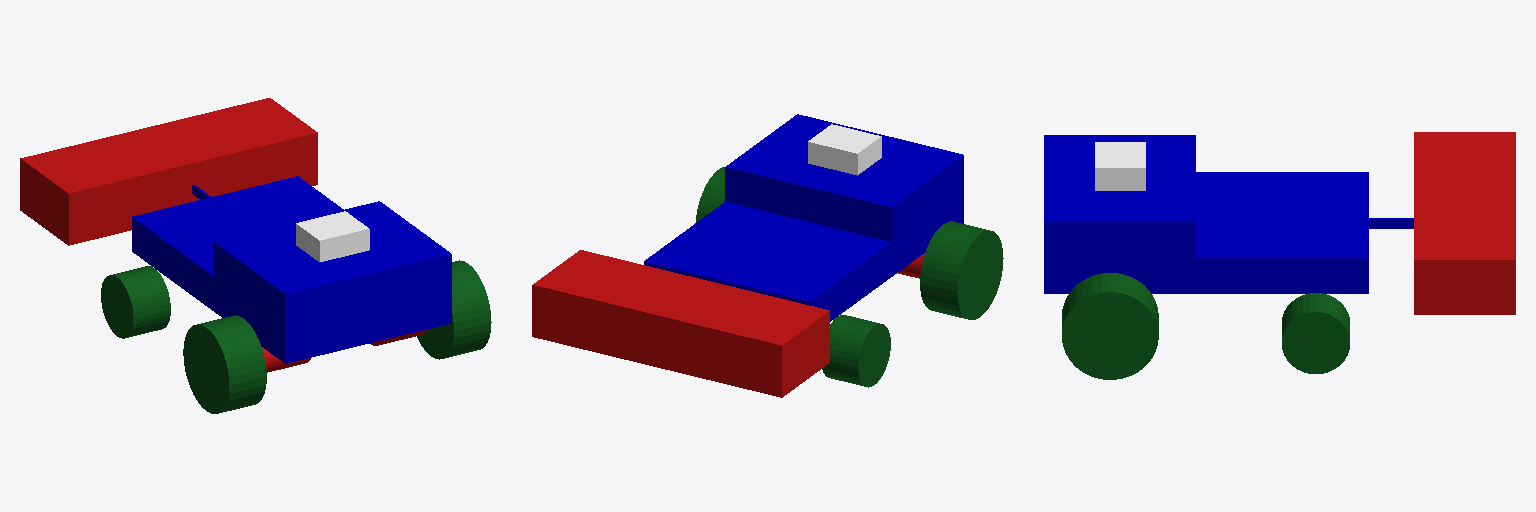
URDF robot description (lemower):
<?xml version="1.0" ?>
<!-- =================================================================================== -->
<!-- |    This document was autogenerated by xacro from ../URDF/lemower.xacro          | -->
<!-- |    EDITING THIS FILE BY HAND IS NOT RECOMMENDED                                 | -->
<!-- =================================================================================== -->
<!-- Description of the LEMOWER robot with XACRO to avoid repeating data -->
<robot name="lemower">
  <!-- This file is not a robot in and of itself, it just contains some useful tags that could be included in any robot -->
  <!-- Specify some colours -->
  <material name="white">
    <color rgba="1 1 1 1"/>
  </material>
  <material name="orange">
    <color rgba="1 0.3 0.1 1"/>
  </material>
  <material name="blue">
    <color rgba="0 0 .8 1"/>
  </material>
  <material name="black">
    <color rgba="1 1 1 1"/>
  </material>
  <material name="red">
    <color rgba="0.8 0.1 0.1 1"/>
  </material>
  <material name="green">
    <color rgba=".1 .4 .15 1"/>
  </material>
  <!-- Specify some standard inertial calculations https://en.wikipedia.org/wiki/List_of_moments_of_inertia -->
  <!-- These make use of xacro's mathematical functionality -->
  <link name="base_link">
    <visual>
      <geometry>
        <box size="0.2 0.32 0.04"/>
      </geometry>
      <material name="blue"/>
    </visual>
    <collision>
      <geometry>
        <box size="0.2 0.32 0.04"/>
      </geometry>
    </collision>
    <inertial>
      <origin rpy="0 0 0" xyz="0 0 0.02"/>
      <mass value="1.5"/>
      <inertia ixx="0.013000000000000001" ixy="0.0" ixz="0.0" iyy="0.005200000000000001" iyz="0.0" izz="0.017800000000000003"/>
    </inertial>
  </link>
  <joint name="base_to_elec" type="fixed">
    <parent link="base_link"/>
    <child link="electronics"/>
    <origin rpy="0 0 0" xyz="0 -0.085 0.04"/>
  </joint>
  <link name="electronics">
    <visual>
      <geometry>
        <box size="0.2 0.15 0.04"/>
      </geometry>
      <origin rpy="0 0 0" xyz="0 0 0"/>
      <material name="blue"/>
    </visual>
    <collision>
      <origin rpy="0 0 0" xyz="0 0 0"/>
      <geometry>
        <box size="0.2 0.15 0.04"/>
      </geometry>
    </collision>
    <inertial>
      <origin rpy="0 0 0" xyz="0 0 0.02"/>
      <mass value="0.4"/>
      <inertia ixx="0.0008033333333333333" ixy="0.0" ixz="0.0" iyy="0.001386666666666667" iyz="0.0" izz="0.0020833333333333333"/>
    </inertial>
  </link>
  <joint name="elec_to_lidar" type="fixed">
    <parent link="electronics"/>
    <child link="lidar"/>
    <origin rpy="0 0 0" xyz="0 0 0.03"/>
  </joint>
  <link name="lidar">
    <visual>
      <geometry>
        <box size="0.06 0.05 0.03"/>
      </geometry>
      <origin rpy="0 0 0" xyz="0 0 0"/>
      <material name="black"/>
    </visual>
    <collision>
      <origin rpy="0 0 0" xyz="0 0 0"/>
      <geometry>
        <box size="0.06 0.05 0.03"/>
      </geometry>
    </collision>
    <inertial>
      <origin rpy="0 0 0" xyz="0 0 0.075"/>
      <mass value="0.1"/>
      <inertia ixx="2.8333333333333335e-05" ixy="0.0" ixz="0.0" iyy="3.75e-05" iyz="0.0" izz="5.0833333333333333e-05"/>
    </inertial>
  </link>
  <joint name="base_to_bras_decoupe" type="revolute">
    <parent link="base_link"/>
    <child link="bras decoupe"/>
    <origin rpy="0 0 0" xyz="0 0.160 0.01"/>
    <limit effort="1000.0" lower="-0.548" upper="0.548" velocity="0.5"/>
    <axis xyz="1 0 0"/>
  </joint>
  <link name="bras decoupe">
    <visual>
      <geometry>
        <box size="0.003 0.06 0.01"/>
      </geometry>
      <origin rpy="0 0 0" xyz="0 0.025 0"/>
      <material name="blue"/>
    </visual>
    <collision>
      <origin rpy="0 0 0" xyz="0 0.025 0"/>
      <geometry>
        <box size="0.003 0.06 0.01"/>
      </geometry>
    </collision>
    <inertial>
      <origin rpy="0 0 0" xyz="0.0015 0.03 0.005"/>
      <mass value="0.05"/>
      <inertia ixx="1.5416666666666664e-05" ixy="0.0" ixz="0.0" iyy="4.541666666666667e-07" iyz="0.0" izz="1.50375e-05"/>
    </inertial>
  </link>
  <joint name="bras_decoupe_to_decoupe" type="revolute">
    <parent link="bras decoupe"/>
    <child link="decoupe"/>
    <axis xyz="1 0 0"/>
    <origin rpy="0 0 0" xyz="0 0.05 0"/>
    <limit effort="1000.0" lower="-0.548" upper="0.548" velocity="0.5"/>
  </joint>
  <link name="decoupe">
    <visual>
      <geometry>
        <box size="0.3 0.1 0.06"/>
      </geometry>
      <origin rpy="0 0 0" xyz="0 0.045 0"/>
      <material name="red"/>
    </visual>
    <collision>
      <origin rpy="0 0 0" xyz="0 0.045 0"/>
      <geometry>
        <box size="0.3 0.1 0.06"/>
      </geometry>
    </collision>
    <inertial>
      <origin rpy="0 0 0" xyz="0.15 0.05 0.03"/>
      <mass value="0.5"/>
      <inertia ixx="0.0005666666666666667" ixy="0.0" ixz="0.0" iyy="0.0039" iyz="0.0" izz="0.004166666666666667"/>
    </inertial>
  </link>
  <joint name="base_to_motor_gauche" type="fixed">
    <parent link="base_link"/>
    <child link="motor gauche"/>
    <origin rpy="0 1.5708 0" xyz="-0.07 -0.095 -0.039"/>
  </joint>
  <link name="motor gauche">
    <visual>
      <geometry>
        <cylinder length="0.057" radius="0.0185"/>
      </geometry>
      <material name="red"/>
    </visual>
    <collision>
      <geometry>
        <cylinder length="0.057" radius="0.0185"/>
      </geometry>
    </collision>
    <inertial>
      <origin rpy="0 0 0" xyz="0 0 0"/>
      <mass value="0.15"/>
      <inertia ixx="5.3446874999999996e-05" ixy="0.0" ixz="0.0" iyy="5.3446874999999996e-05" iyz="0.0" izz="2.5668749999999994e-05"/>
    </inertial>
  </link>
  <joint name="base_to_motor_droite" type="fixed">
    <parent link="base_link"/>
    <child link="motor droite"/>
    <origin rpy="0 1.5708 0" xyz="0.07 -0.095 -0.039"/>
  </joint>
  <link name="motor droite">
    <visual>
      <geometry>
        <cylinder length="0.057" radius="0.0185"/>
      </geometry>
      <material name="red"/>
    </visual>
    <collision>
      <geometry>
        <cylinder length="0.057" radius="0.0185"/>
      </geometry>
    </collision>
    <inertial>
      <origin rpy="0 0 0" xyz="0 0 0"/>
      <mass value="0.15"/>
      <inertia ixx="5.3446874999999996e-05" ixy="0.0" ixz="0.0" iyy="5.3446874999999996e-05" iyz="0.0" izz="2.5668749999999994e-05"/>
    </inertial>
  </link>
  <link name="Roue arrière gauche">
    <visual>
      <geometry>
        <cylinder length="0.045" radius="0.048"/>
      </geometry>
      <material name="green"/>
    </visual>
    <collision>
      <geometry>
        <cylinder length="0.045" radius="0.048"/>
      </geometry>
    </collision>
    <inertial>
      <origin rpy="0 0 0" xyz="0 0 0"/>
      <mass value="0.2"/>
      <inertia ixx="0.00014895000000000002" ixy="0.0" ixz="0.0" iyy="0.00014895000000000002" iyz="0.0" izz="0.00023040000000000002"/>
    </inertial>
  </link>
  <link name="Roue arrière droite">
    <visual>
      <geometry>
        <cylinder length="0.045" radius="0.048"/>
      </geometry>
      <material name="green"/>
    </visual>
    <collision>
      <geometry>
        <cylinder length="0.045" radius="0.048"/>
      </geometry>
    </collision>
    <inertial>
      <origin rpy="0 0 0" xyz="0 0 0"/>
      <mass value="0.2"/>
      <inertia ixx="0.00014895000000000002" ixy="0.0" ixz="0.0" iyy="0.00014895000000000002" iyz="0.0" izz="0.00023040000000000002"/>
    </inertial>
  </link>
  <link name="Roue avant gauche">
    <visual>
      <geometry>
        <cylinder length="0.045" radius="0.034"/>
      </geometry>
      <material name="green"/>
    </visual>
    <collision>
      <geometry>
        <cylinder length="0.045" radius="0.034"/>
      </geometry>
    </collision>
    <inertial>
      <origin rpy="0 0 0" xyz="0 0 0"/>
      <mass value="0.2"/>
      <inertia ixx="9.155e-05" ixy="0.0" ixz="0.0" iyy="9.155e-05" iyz="0.0" izz="0.00011560000000000002"/>
    </inertial>
  </link>
  <link name="Roue avant droite">
    <visual>
      <geometry>
        <cylinder length="0.045" radius="0.034"/>
      </geometry>
      <material name="green"/>
    </visual>
    <collision>
      <geometry>
        <cylinder length="0.045" radius="0.034"/>
      </geometry>
    </collision>
    <inertial>
      <origin rpy="0 0 0" xyz="0 0 0"/>
      <mass value="0.2"/>
      <inertia ixx="9.155e-05" ixy="0.0" ixz="0.0" iyy="9.155e-05" iyz="0.0" izz="0.00011560000000000002"/>
    </inertial>
  </link>
  <joint name="motor_to_roue_arriere_gauche" type="continuous">
    <parent link="motor gauche"/>
    <child link="Roue arrière gauche"/>
    <origin rpy="0 0 0" xyz="0 0 -0.065"/>
    <axis xyz="0 0 -1"/>
  </joint>
  <joint name="motor_to_roue_arriere_droite" type="continuous">
    <parent link="motor droite"/>
    <child link="Roue arrière droite"/>
    <origin rpy="0 0 0" xyz="0 0 0.065"/>
    <axis xyz="0 0 1"/>
  </joint>
  ,
    
  <joint name="base_to_roue_avant_gauche" type="continuous">
    <parent link="base_link"/>
    <child link="Roue avant gauche"/>
    <origin rpy="0 1.5708 0" xyz="-0.125 0.108 -0.0515"/>
    <axis xyz="0 0 -1"/>
  </joint>
  <joint name="base_to_roue_avant_droite" type="continuous">
    <parent link="base_link"/>
    <child link="Roue avant droite"/>
    <origin rpy="0 1.5708 0" xyz="0.125 0.108 -0.0515"/>
    <axis xyz="0 0 1"/>
  </joint>
</robot>

--- Facts derived from the render (not from the file) ---
The picture shows the robot from 3 angles, left to right: view 1: azimuth 30°, elevation 25°; view 2: azimuth 150°, elevation 25°; view 3: azimuth 270°, elevation 25°; orthographic projection.
Model lemower with 11 links and 10 joints (2 revolute, 4 continuous, 4 fixed), rooted at base_link, posed all joints at 0.
Visible links, largest first — view 1: decoupe, base_link, electronics, Roue arrière gauche, Roue avant gauche, Roue arrière droite, lidar; view 2: decoupe, base_link, electronics, Roue arrière gauche, Roue avant gauche, lidar, Roue arrière droite; view 3: base_link, decoupe, electronics, Roue arrière droite, Roue avant droite, lidar.
Boxes of the visible links, x1=… form: decoupe: x1=20, y1=98, x2=317, y2=245; base_link: x1=132, y1=176, x2=451, y2=363; electronics: x1=213, y1=201, x2=451, y2=328; Roue arrière gauche: x1=183, y1=315, x2=266, y2=413; Roue avant gauche: x1=101, y1=266, x2=170, y2=338; Roue arrière droite: x1=417, y1=260, x2=491, y2=359; lidar: x1=296, y1=211, x2=369, y2=261; decoupe: x1=532, y1=250, x2=829, y2=397; base_link: x1=644, y1=190, x2=963, y2=321; electronics: x1=725, y1=114, x2=963, y2=241; Roue arrière gauche: x1=920, y1=221, x2=1003, y2=319; Roue avant gauche: x1=822, y1=315, x2=890, y2=387; lidar: x1=808, y1=124, x2=881, y2=175; Roue arrière droite: x1=696, y1=167, x2=724, y2=222; base_link: x1=1044, y1=172, x2=1368, y2=293; decoupe: x1=1414, y1=132, x2=1515, y2=314; electronics: x1=1044, y1=135, x2=1195, y2=256; Roue arrière droite: x1=1062, y1=273, x2=1158, y2=379; Roue avant droite: x1=1282, y1=293, x2=1349, y2=373; lidar: x1=1095, y1=142, x2=1145, y2=190.
Bounding box of the posed robot: 0.315 × 0.465 × 0.172 m (x, y, z).
Geometry: primitives only (box / cylinder / sphere), no mesh files.
